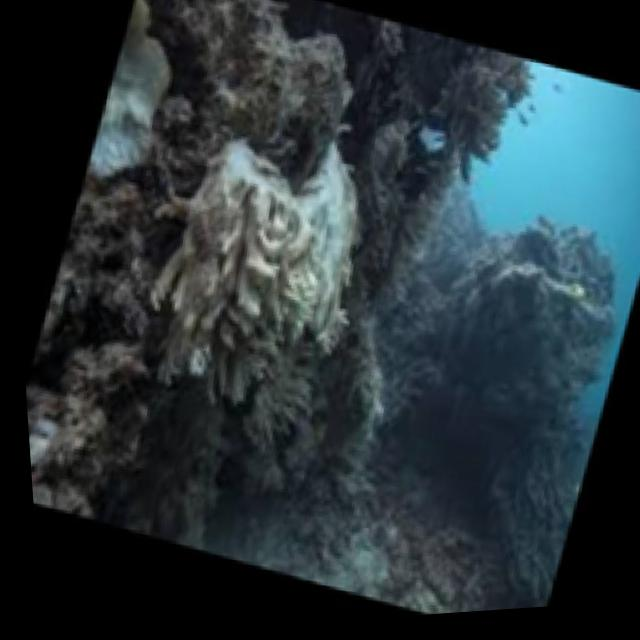Dead Coral: (365, 183, 623, 554), (110, 0, 528, 180)
